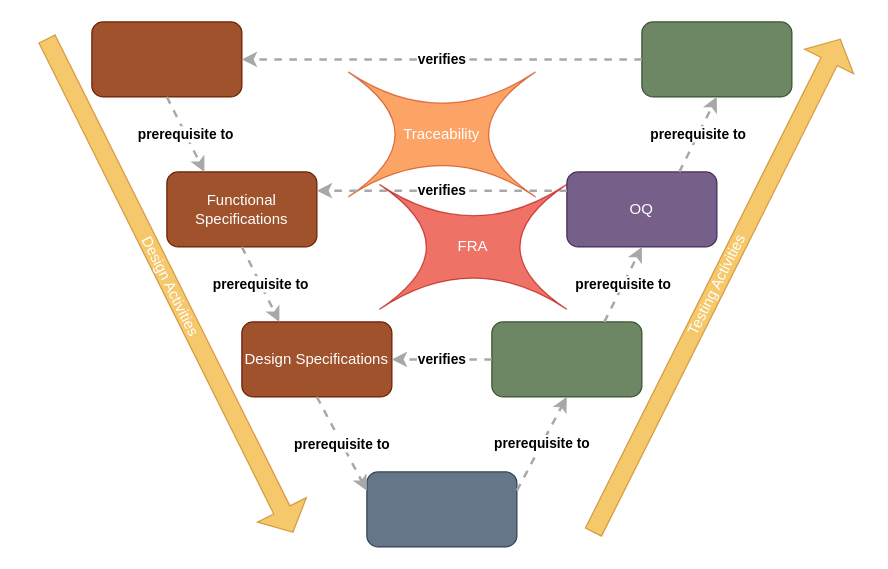
The diagram is 888 pixels wide and 569 high, and some of its shapes have lost their labels. Here are the shapes that lost their labels. From the top down, the box of each, then its label:
(91, 21, 242, 97): User Requirements
(641, 21, 792, 97): PQ
(491, 321, 642, 397): IQ
(366, 471, 517, 547): Build
